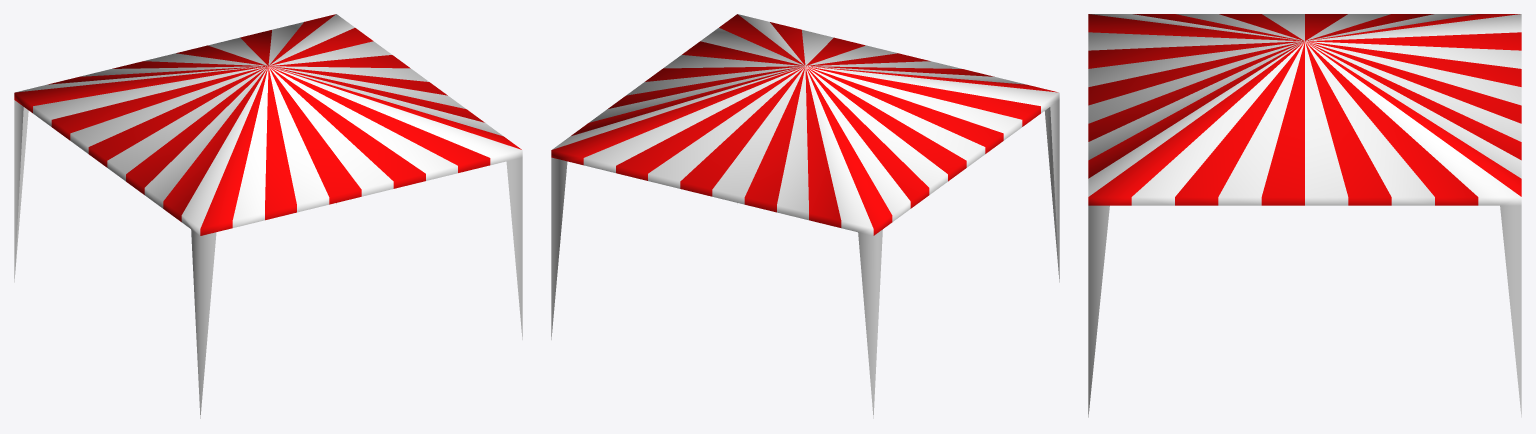
File: tent.dae
3 renders of one model, left to right at view 1: azimuth 30°, elevation 25°; view 2: azimuth 150°, elevation 25°; view 3: azimuth 270°, elevation 25°, orthographic. The views are drawn at different scales.
Visible parts, largest first — view 1: Party_tent (×40); view 2: Party_tent (×40); view 3: Party_tent (×40).
Boxes of the visible parts, bbox=[...] form: Party_tent (×40): bbox=[14, 14, 522, 418]; Party_tent (×40): bbox=[551, 14, 1059, 418]; Party_tent (×40): bbox=[1088, 14, 1521, 417].
Bounding box in the file's own units: 197 × 197 × 144.
